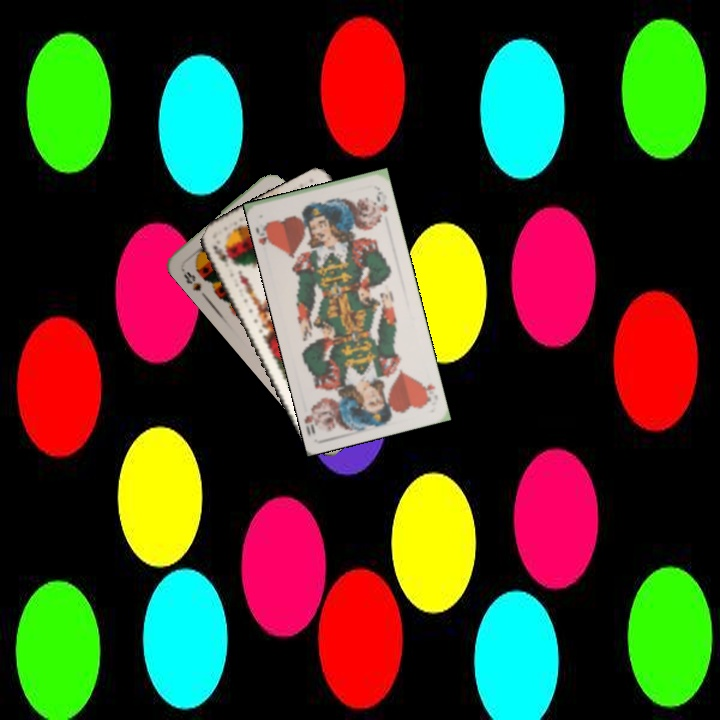HO: (252, 218, 277, 249), (417, 378, 438, 407)
S8: (177, 264, 204, 294)
SK: (209, 241, 232, 269)
